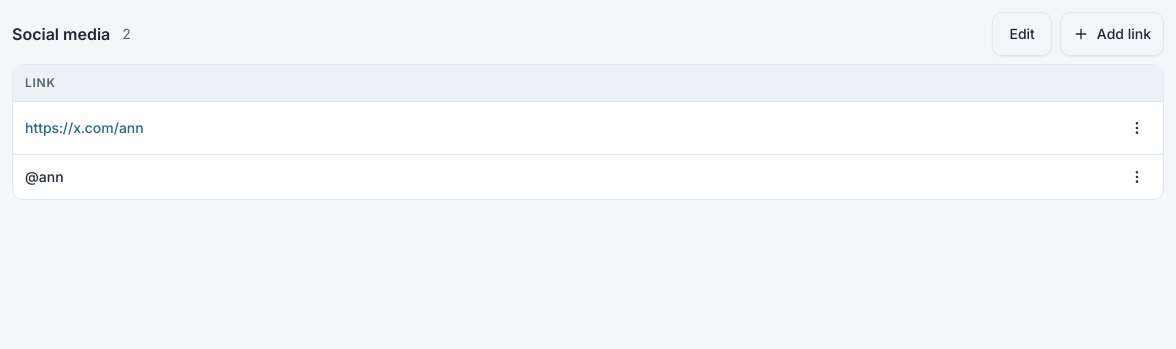
Test: SocialSection: read-view entry points › Edit switches the whole table in place: Editing, focus on the first link; every saved link an editable url input
Step 1. Click the button "Edit" → {"x": 1022, "y": 34}, box [992,12,1052,56]
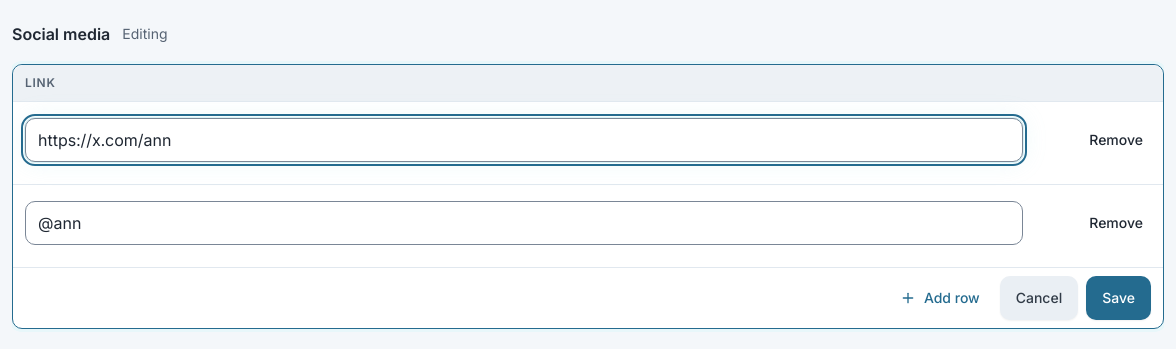
Expected: the text "Editing" is shown, [122,24,168,44]
Expected: the buttons read "Add row", "Cancel", "Save", in this order, [888,276,992,320]; [1000,276,1078,320]; [1086,276,1151,320]
